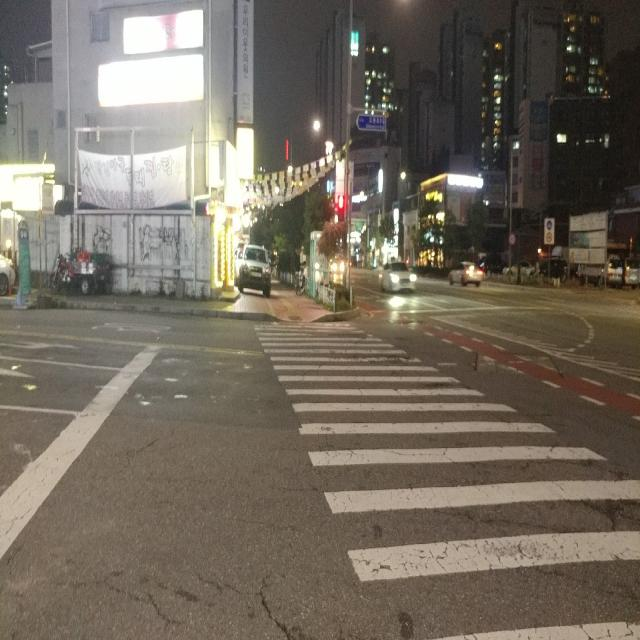빨간불: (336, 192, 347, 223)
횡단보도: (253, 318, 640, 640)
